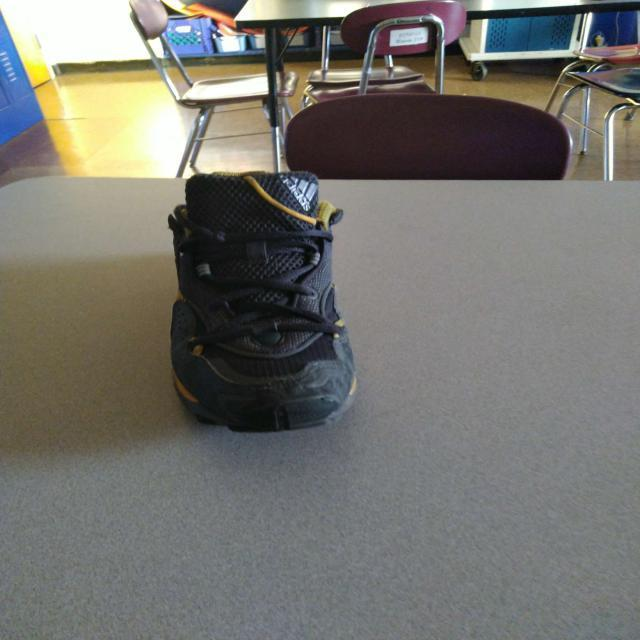shoes: (168, 169, 359, 434)
